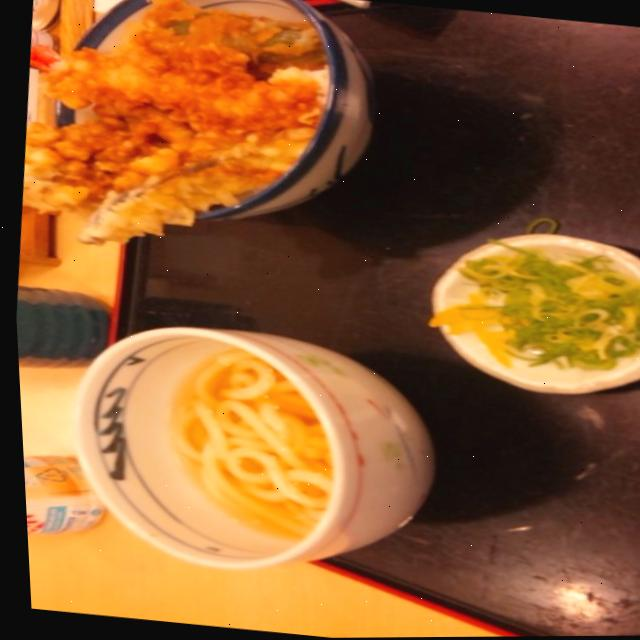面条主食: (42, 321, 355, 570)
